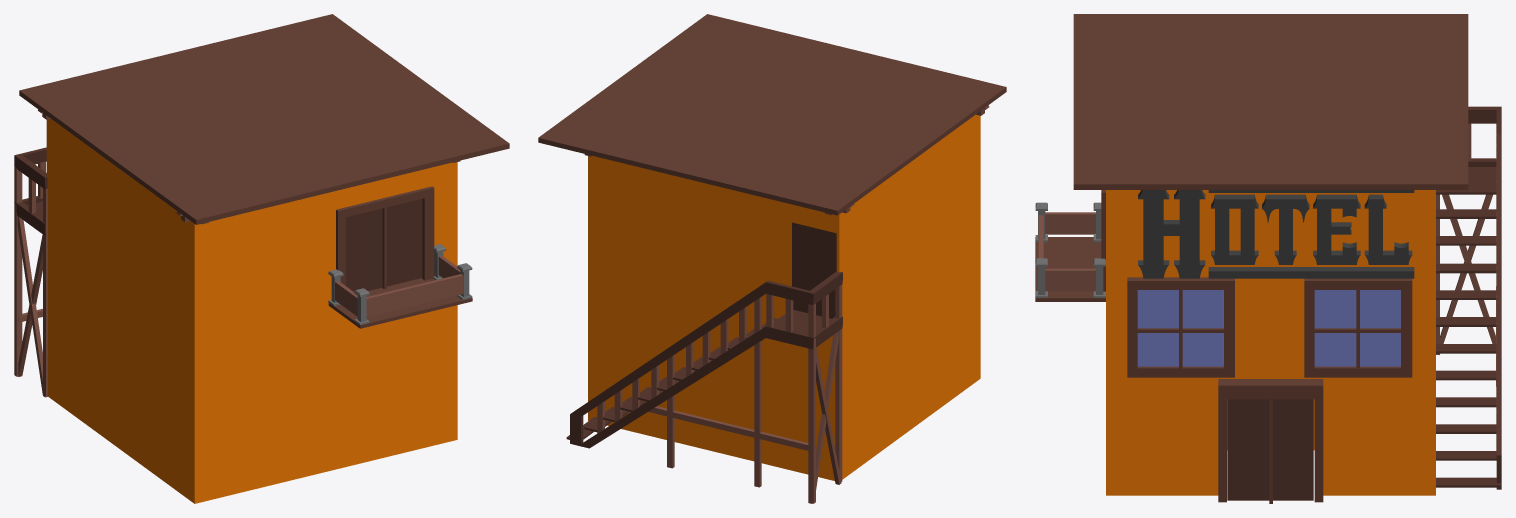
Rendered from Hotel.fbx.
3 renders of one model, left to right at view 1: azimuth 30°, elevation 25°; view 2: azimuth 150°, elevation 25°; view 3: azimuth 270°, elevation 25°, orthographic. The views are drawn at different scales.
Parts seen in each view (by area): view 1: Cube, Cube.018, Cube.006, Cube.055, Cube.008, Cube.028, Cube.021, Cube.040, Cube.023; view 2: Cube, Cube.018, Cube.055, Cube.040, Cube.059, Cube.014; view 3: Cube.018, Cube, Text, Cube.008, Cube.015, Cube.006, Cube.014, Cube.040, Cube.028, Cube.021, Cube.055, Cube.023.
Boxes of the visible parts, <box> form: Cube: <box>46,119,457,503</box>; Cube.018: <box>19,14,509,224</box>; Cube.006: <box>346,199,422,292</box>; Cube.055: <box>14,161,47,397</box>; Cube.008: <box>336,186,434,289</box>; Cube.028: <box>335,255,463,317</box>; Cube.021: <box>328,278,472,328</box>; Cube.040: <box>14,147,47,235</box>; Cube.023: <box>328,244,472,325</box>; Cube: <box>588,114,980,480</box>; Cube.018: <box>538,14,1006,215</box>; Cube.055: <box>597,284,842,503</box>; Cube.040: <box>570,271,842,448</box>; Cube.059: <box>792,222,836,318</box>; Cube.014: <box>566,310,831,439</box>; Cube.018: <box>1073,14,1468,189</box>; Cube: <box>1106,190,1435,495</box>; Text: <box>1138,190,1414,278</box>; Cube.008: <box>1101,190,1412,503</box>; Cube.015: <box>1137,290,1400,366</box>; Cube.006: <box>1227,399,1313,500</box>; Cube.014: <box>1436,167,1501,487</box>; Cube.040: <box>1468,106,1501,489</box>; Cube.028: <box>1038,212,1095,291</box>; Cube.021: <box>1035,237,1105,301</box>; Cube.055: <box>1436,123,1496,450</box>; Cube.023: <box>1035,202,1105,297</box>.
Bounding box in the file's own units: 2192 × 2001 × 2537.
